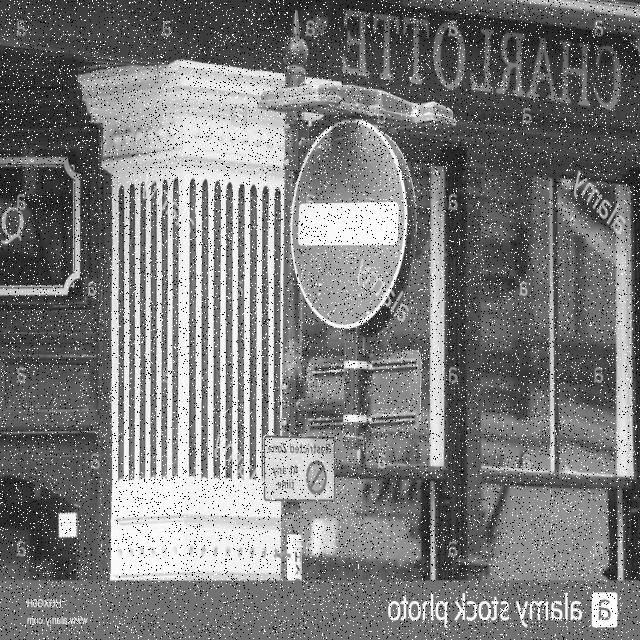no entry: (292, 118, 408, 326)
